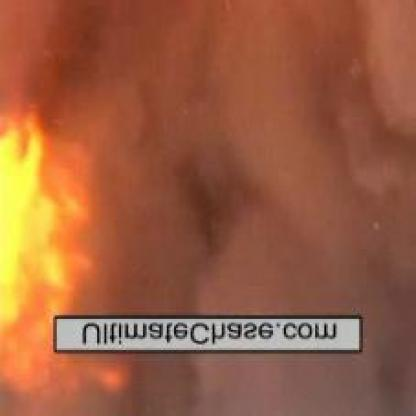fire: (0, 122, 78, 325)
smoke: (61, 9, 392, 396)
